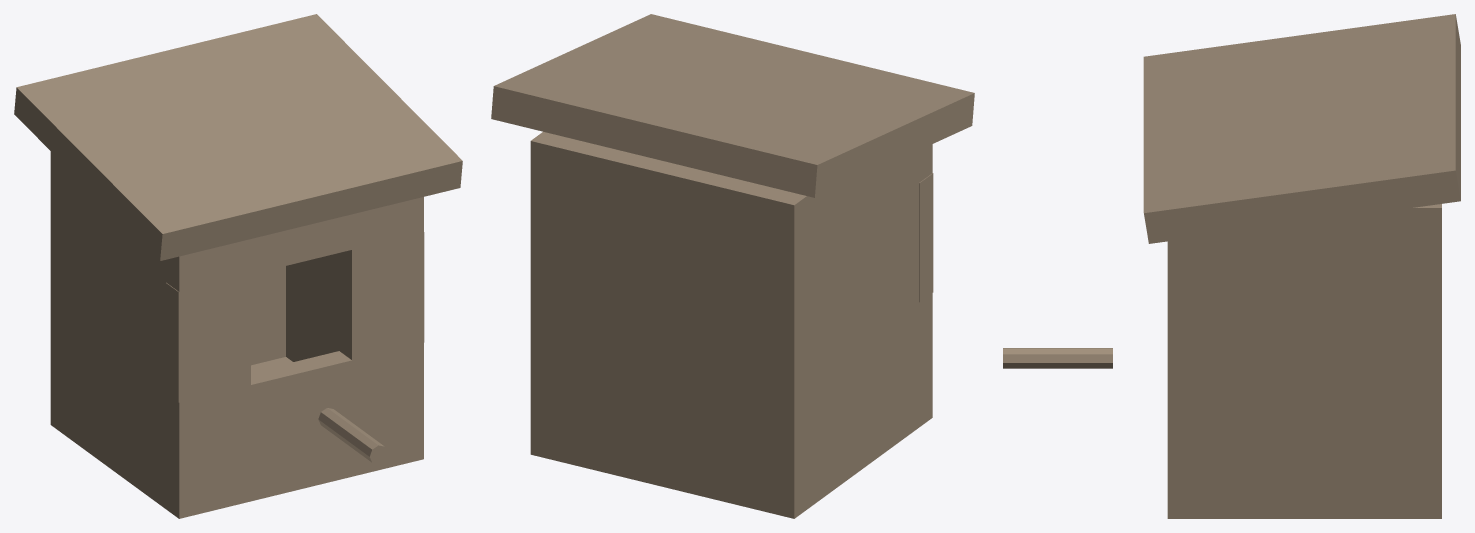
File: birds-and-flying-creatures-nest-box-0fc7ab23__20666.glb
The picture shows the model from 3 angles, left to right: view 1: azimuth 30°, elevation 25°; view 2: azimuth 150°, elevation 25°; view 3: azimuth 270°, elevation 25°; orthographic projection. The views are drawn at different scales.
Visible parts, largest first — view 1: nest-box; view 2: nest-box; view 3: nest-box.
Boxes of the visible parts, x1,y1,x2,y2 form: nest-box: (14, 14, 462, 518); nest-box: (491, 14, 974, 518); nest-box: (1003, 14, 1460, 518).
Size of the model in its own units: 0.27 by 0.2919 by 0.3337.
